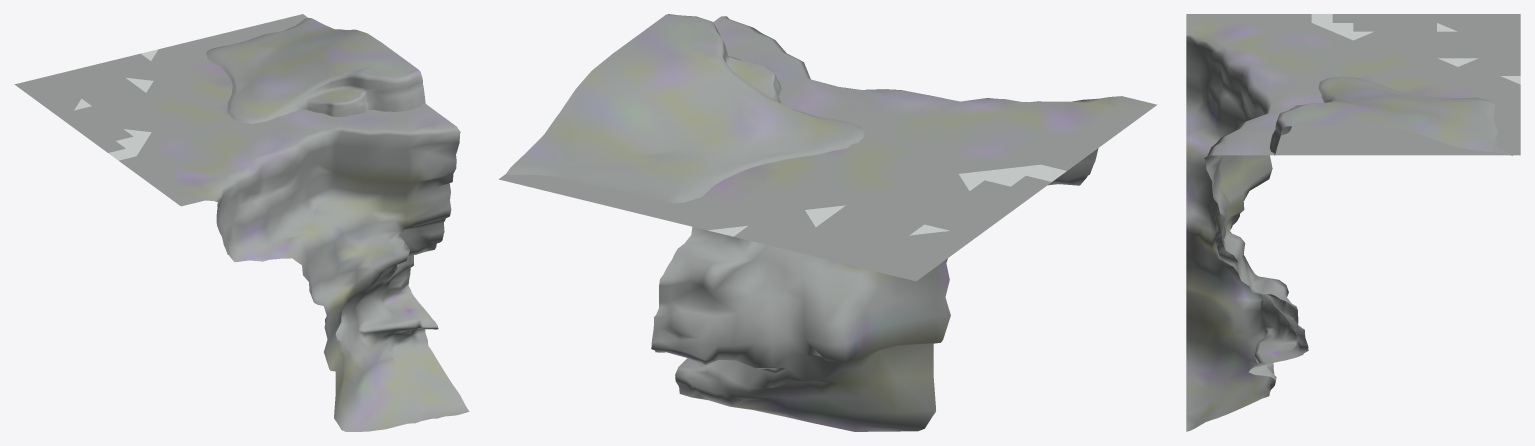
3 views of the same model, side by side, from view 1: azimuth 30°, elevation 25°; view 2: azimuth 150°, elevation 25°; view 3: azimuth 270°, elevation 25° (orthographic). The views are drawn at different scales.
Visible parts, largest first — view 1: G:\FFXIV-MapTools\exports\y6f2\bg\ex5\02_ykt_y6\fld\y6f2\bgp (×7); view 2: G:\FFXIV-MapTools\exports\y6f2\bg\ex5\02_ykt_y6\fld\y6f2\bgp (×8); view 3: G:\FFXIV-MapTools\exports\y6f2\bg\ex5\02_ykt_y6\fld\y6f2\bgp (×7).
Part boxes in pixels (x1,y1,x2,y2): G:\FFXIV-MapTools\exports\y6f2\bg\ex5\02_ykt_y6\fld\y6f2\bgp (×7): [14, 14, 469, 431]; G:\FFXIV-MapTools\exports\y6f2\bg\ex5\02_ykt_y6\fld\y6f2\bgp (×8): [498, 14, 1157, 431]; G:\FFXIV-MapTools\exports\y6f2\bg\ex5\02_ykt_y6\fld\y6f2\bgp (×7): [1186, 14, 1520, 431].
Bounding box in the file's own units: 128 × 129 × 128.
